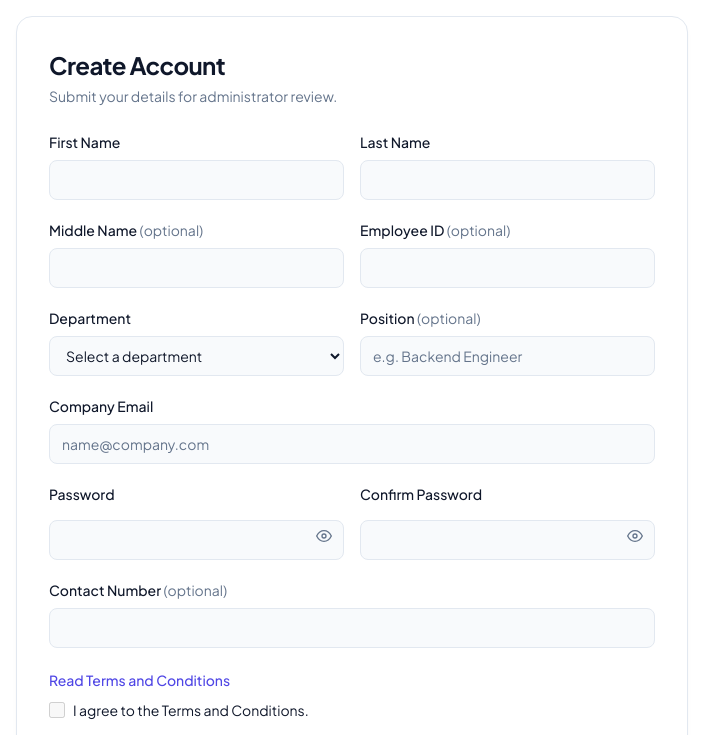
Test: RegisterPage › shows a password strength label once the user starts typing a password
In the password field labelled "Password": (196, 540) top-left (49, 520), bottom-right (344, 560), type "Str0ng!Passw0rd"
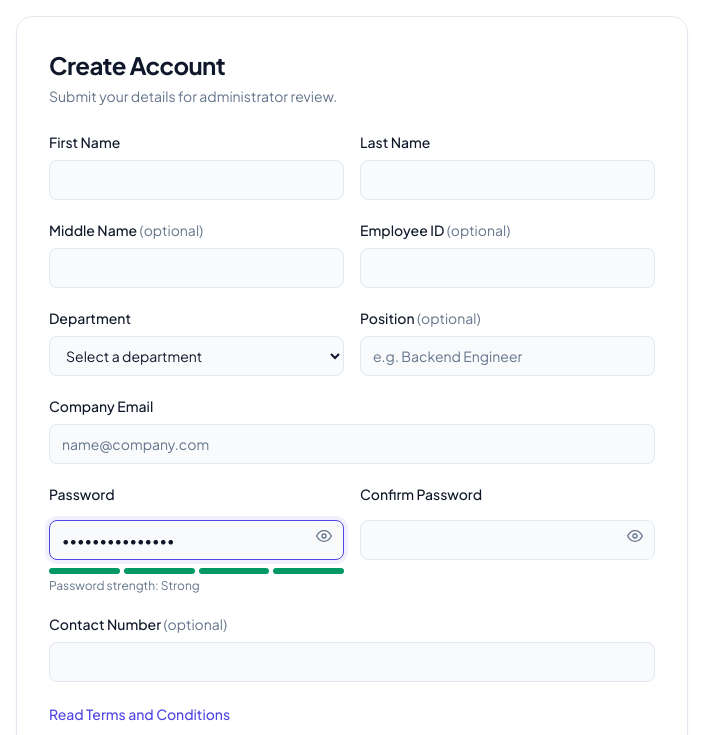
Expected: the text "Password strength: Strong" is shown, top-left (49, 578), bottom-right (200, 593)
